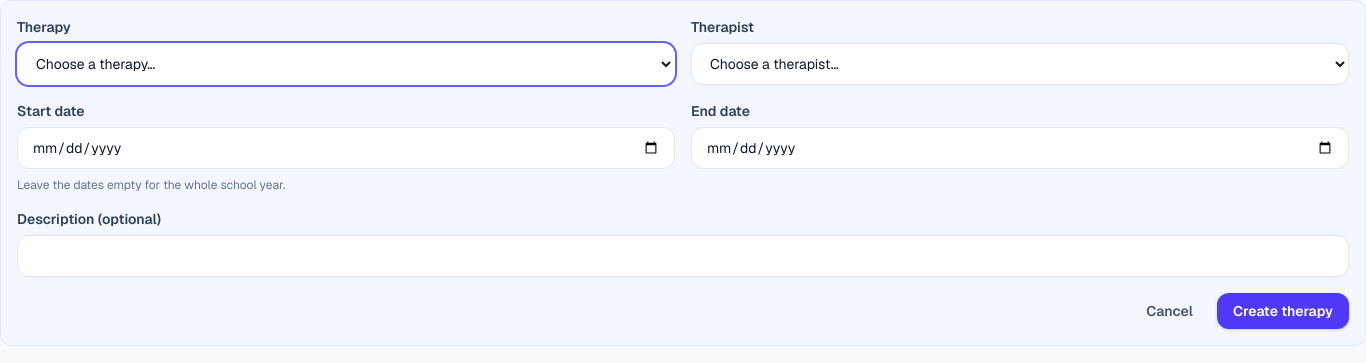
Test: CourseForm › offers only the therapists who have the chosen therapy
The image size is (1366, 363).
Expected: the dropdown labelled "Therapist" is disabled, 691,43 -> 1349,85
Select "Kineto" in the dropdown labelled "Therapy". click: [346, 64]
box: 17,43 -> 675,85
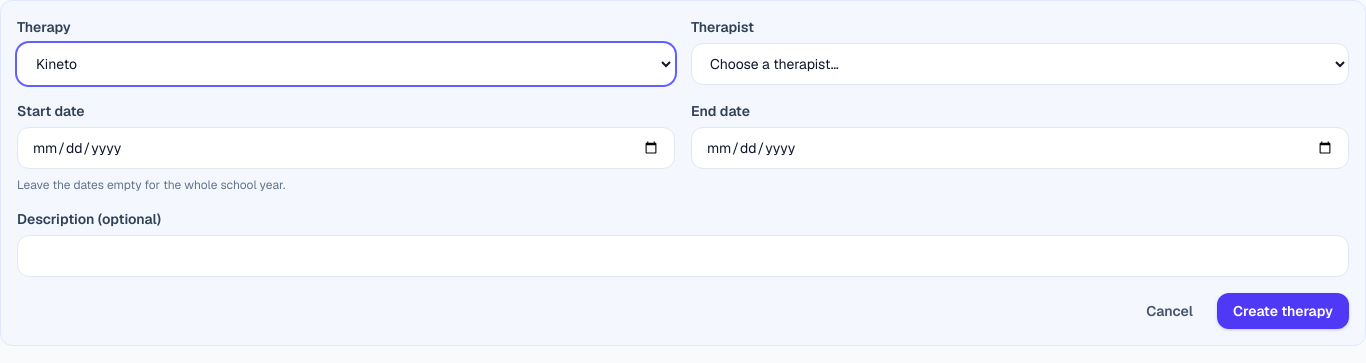
Select "Shadow" in the dropdown labelled "Therapy". click: [346, 64]
box: 17,43 -> 675,85
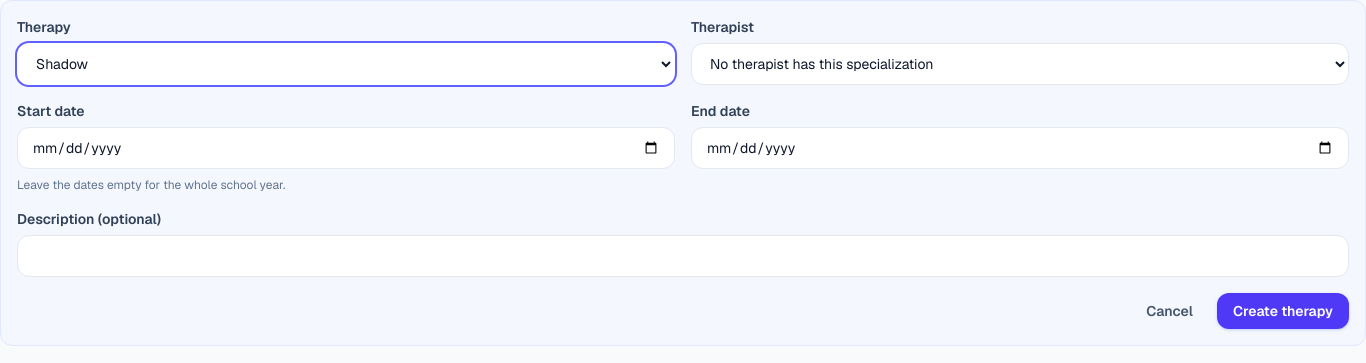
Expected: the dropdown labelled "Therapist" is disabled, 691,43 -> 1349,85
